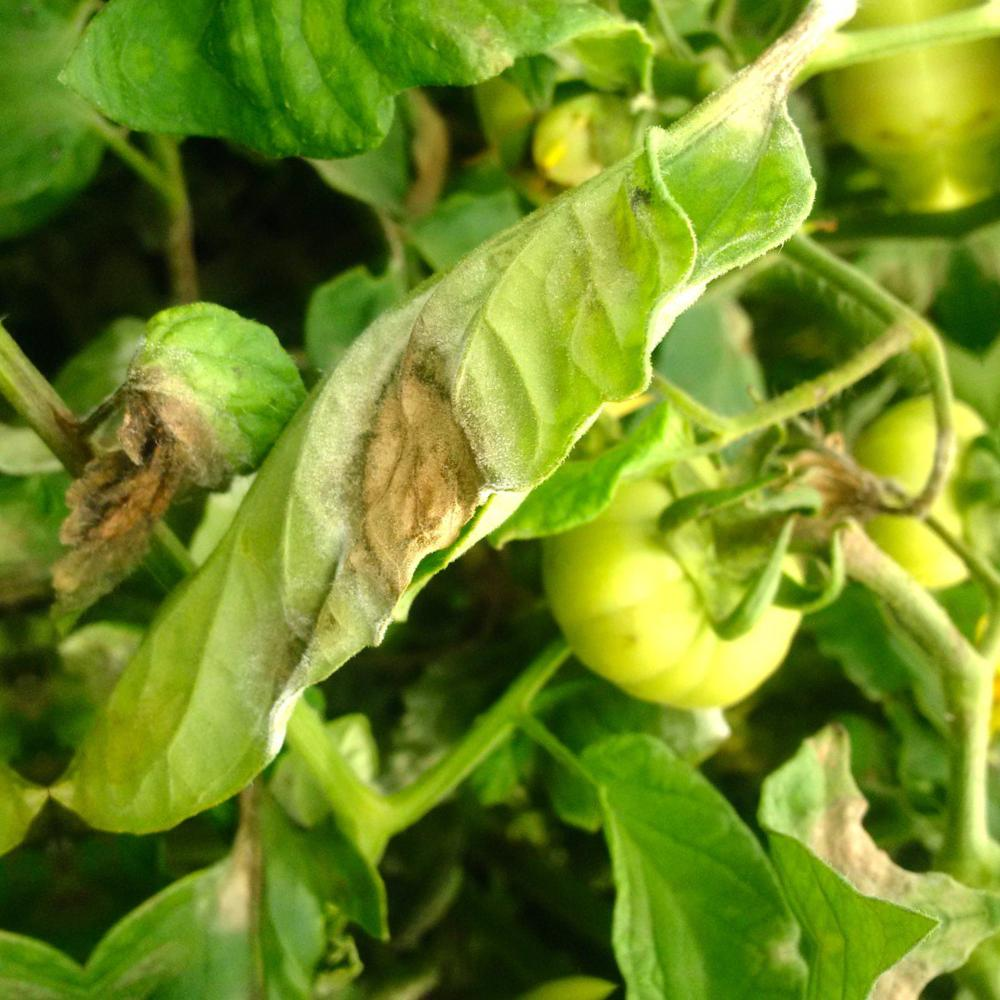Tomato leaf late blight: (0, 11, 980, 879), (0, 269, 347, 643)
